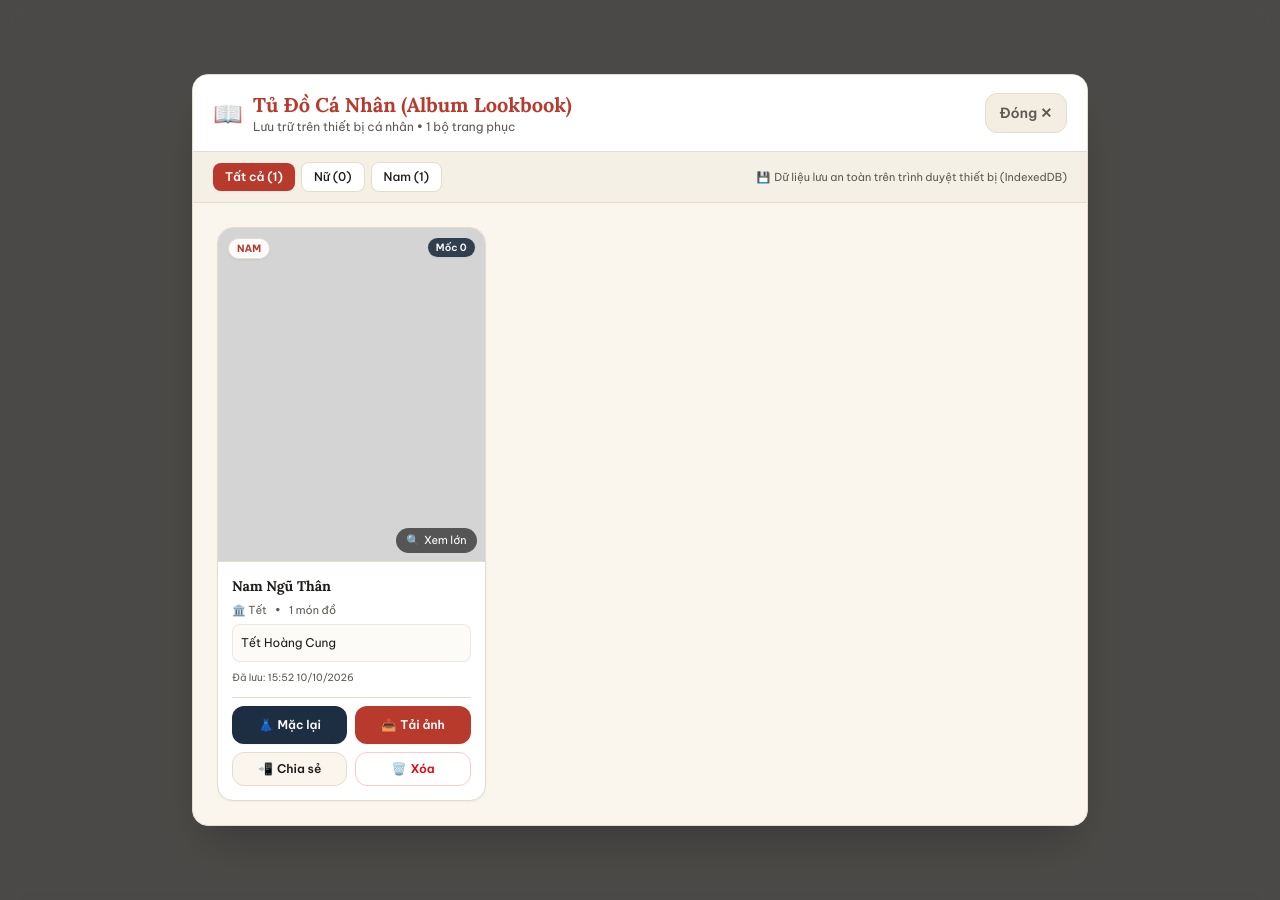
Test case: LookbookModal Album component (app/components/LookbookModal.tsx) › downloads the PNG card when Tải ảnh button is clicked
Click the button with test id "btn-download-outfit_download" at (413, 725), box left=355, top=706, right=471, bottom=744
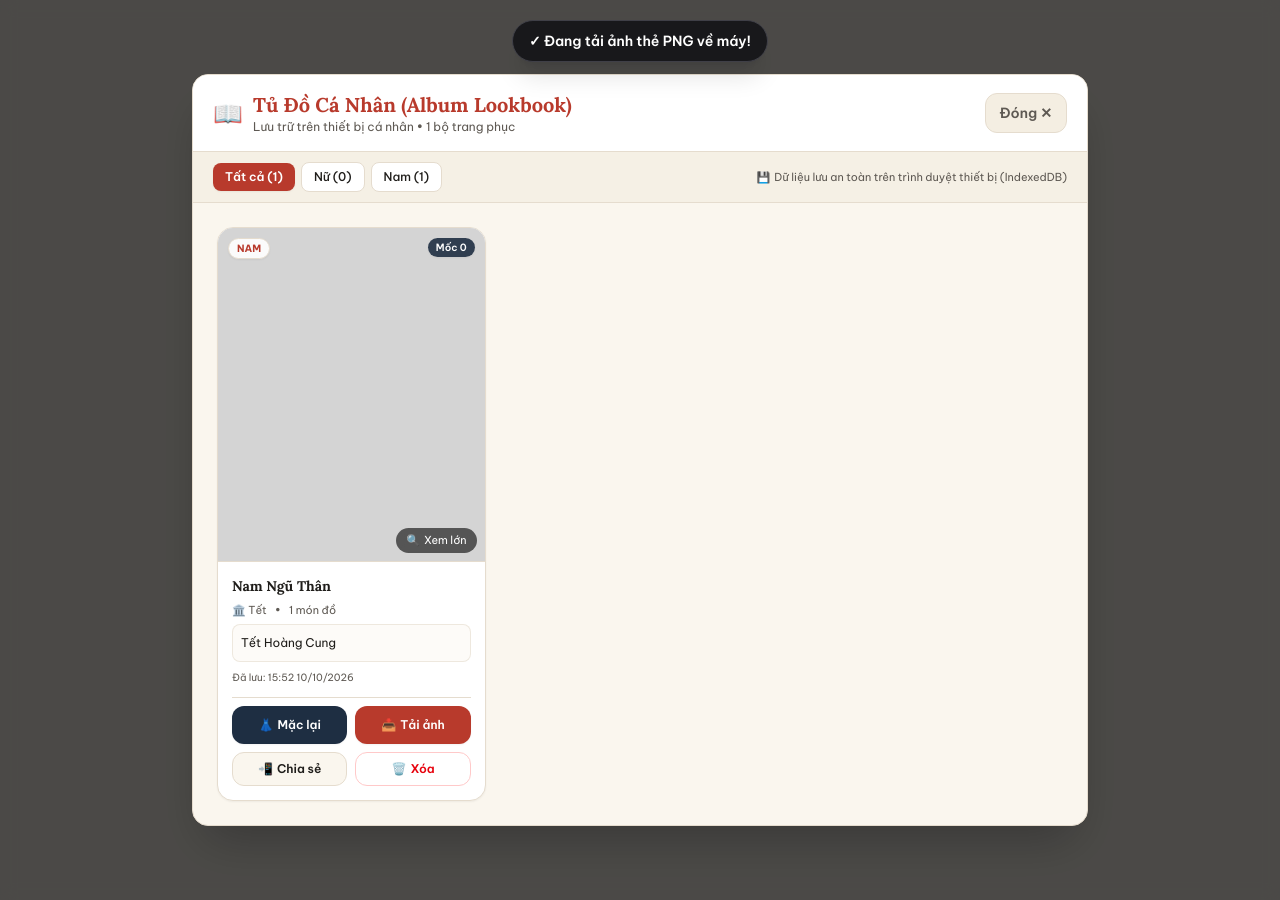
Check: the message with test id "album-toast" shows "Đang tải ảnh thẻ PNG về máy", box left=529, top=32, right=751, bottom=50
